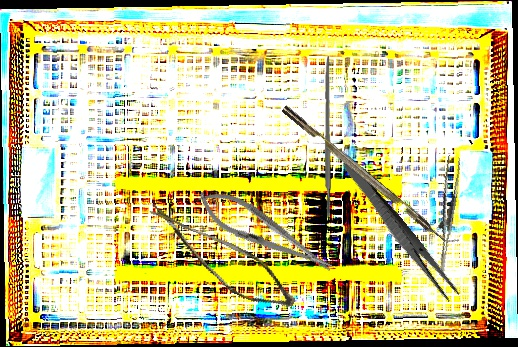Chopper: (281, 97, 461, 252)
Dressing Forceps: (337, 156, 462, 304)
Micro Scissor: (130, 202, 309, 317)
Needle Holder: (190, 179, 340, 286)
Scalpel Handle: (324, 56, 331, 218)
Tissue Forceps: (419, 154, 473, 277)
